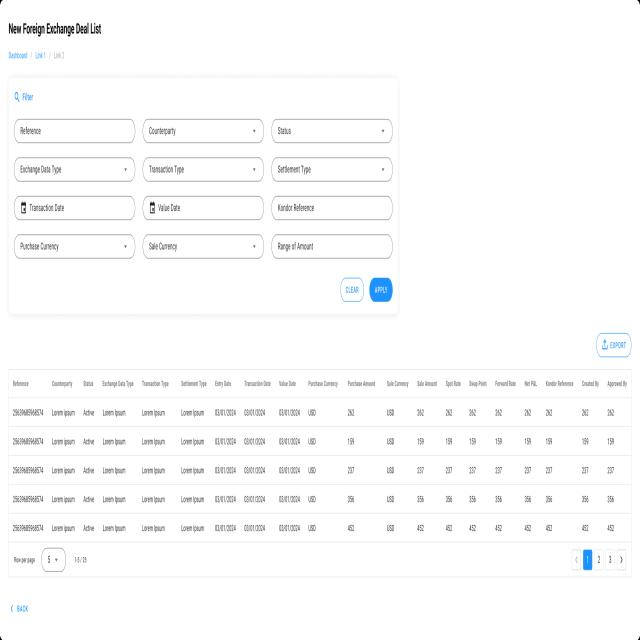QLabel: (8, 20, 103, 38), (344, 284, 361, 296), (373, 284, 390, 296), (610, 339, 626, 351), (22, 92, 34, 104), (17, 604, 28, 614)
VBreadcrumbs: (7, 48, 68, 63)
VBtn: (596, 331, 632, 358), (6, 592, 35, 624), (369, 276, 394, 302), (340, 276, 364, 302)
VCard: (8, 76, 399, 320)
VCombobox: (271, 156, 393, 183), (143, 117, 264, 144), (271, 118, 393, 144), (143, 234, 264, 260), (14, 234, 136, 259), (14, 157, 135, 182)
VDataTable: (6, 364, 633, 582)
VIcon: (12, 86, 20, 108), (600, 338, 608, 352), (10, 602, 14, 614)
VInlineDatepicker: (142, 193, 264, 222), (15, 193, 136, 221)
VTextField: (271, 231, 394, 261), (14, 118, 135, 144), (272, 196, 393, 220)
